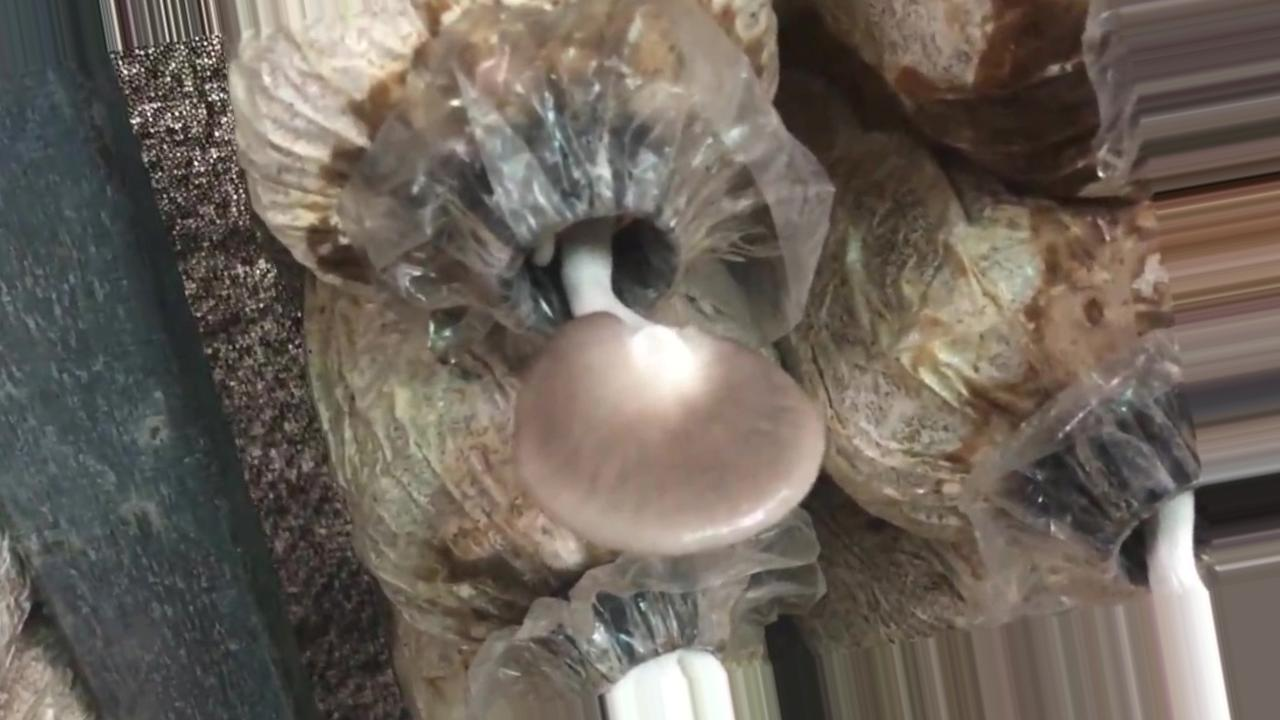nam: (489, 145, 830, 562)
